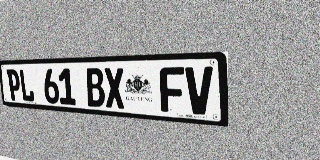1: (57, 68, 76, 105)
6: (42, 69, 60, 104)
B: (85, 68, 105, 107)
F: (159, 67, 185, 113)
L: (19, 69, 35, 102)
P: (6, 69, 22, 101)
V: (185, 66, 213, 115)
X: (103, 68, 125, 109)
